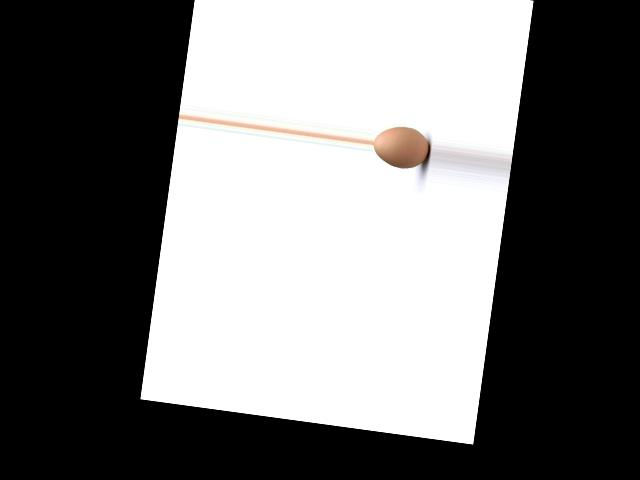egg: (371, 122, 432, 171)
